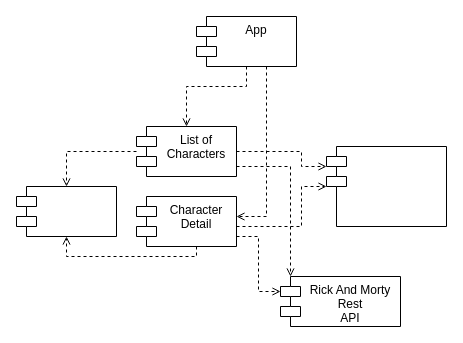
This 463x343 diagram has some shape labels left out. Here are the shapes that lost their labels. From the top down, the centre of each, then its label:
the point at 386,186: Shared - Entities - Protocols - UIComponents
the point at 66,211: Favorite Characters
